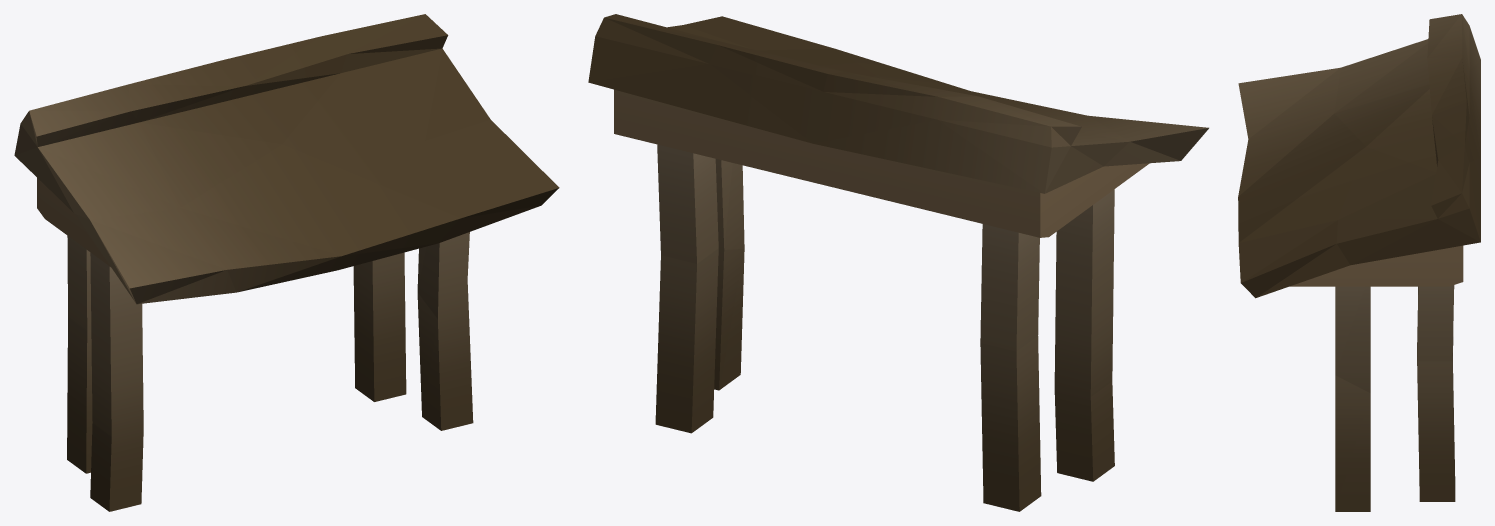
File: LogStorage.gltf
The picture shows the model from 3 angles, left to right: view 1: azimuth 30°, elevation 25°; view 2: azimuth 150°, elevation 25°; view 3: azimuth 270°, elevation 25°; orthographic projection. The views are drawn at different scales.
Parts seen in each view (by area): view 1: LogStorage; view 2: LogStorage; view 3: LogStorage.
Part boxes in pixels (bbox=[...]): LogStorage: bbox=[14, 14, 559, 511]; LogStorage: bbox=[588, 14, 1208, 511]; LogStorage: bbox=[1238, 14, 1480, 511].
Bounding box in the file's own units: 1.9 × 1.5 × 1.
Materials: 1 (1 with a texture image).
